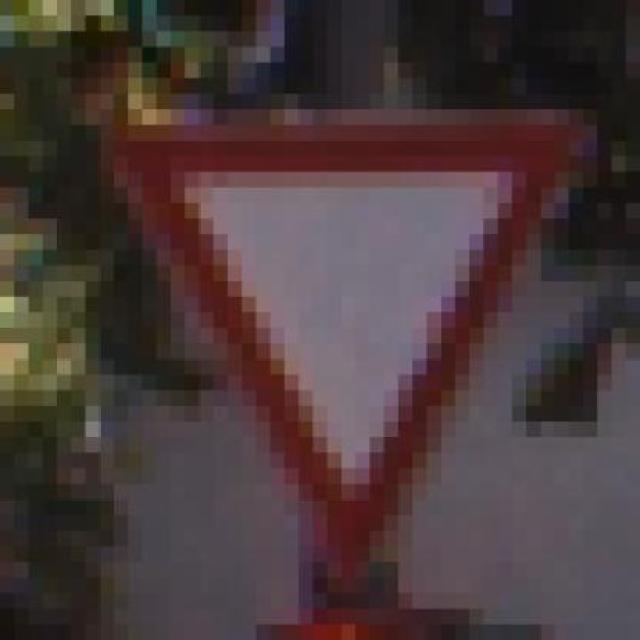Give Way: (85, 78, 626, 593)
